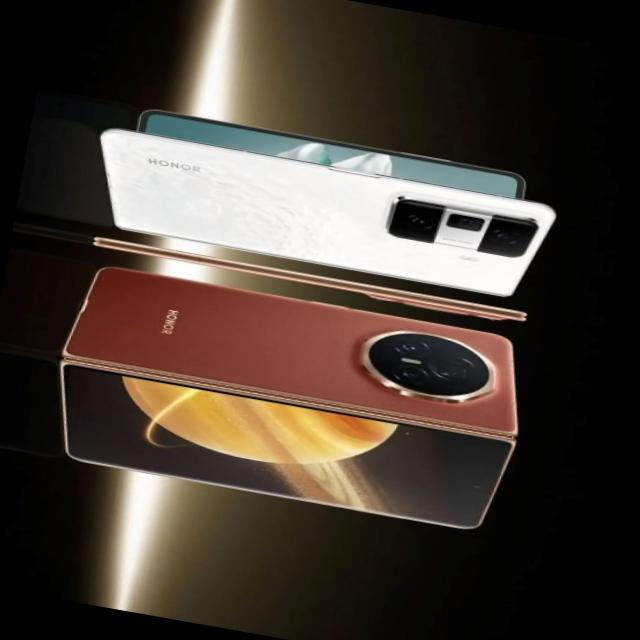mobile_phone: (35, 349, 517, 543), (96, 115, 572, 302), (35, 257, 519, 439)
